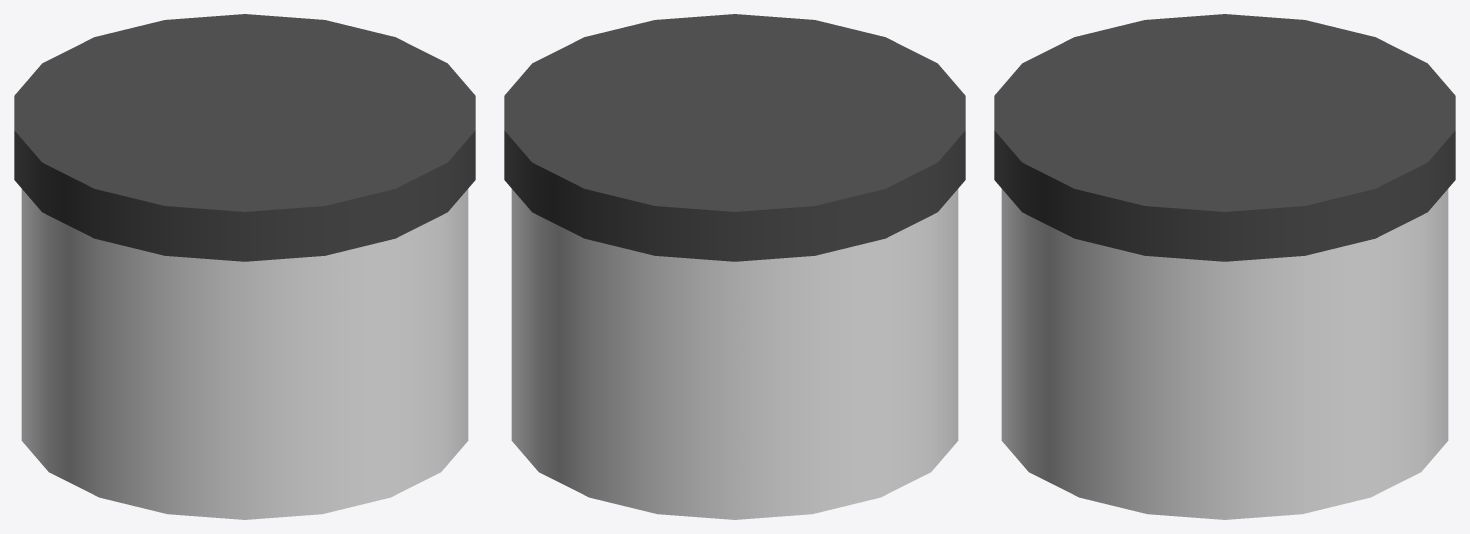
File: RoundBox_b_01.fbx
3 views of the same model, side by side, from view 1: azimuth 30°, elevation 25°; view 2: azimuth 150°, elevation 25°; view 3: azimuth 270°, elevation 25° (orthographic).
Parts seen in each view (by area): view 1: RoundBox_b_01; view 2: RoundBox_b_01; view 3: RoundBox_b_01.
Part boxes in pixels (box(x1,y1,x2,y2)): RoundBox_b_01: box(14, 14, 475, 519); RoundBox_b_01: box(504, 14, 965, 519); RoundBox_b_01: box(994, 14, 1455, 519).
Size of the model in its own units: 12.65 by 9.27 by 12.46.
